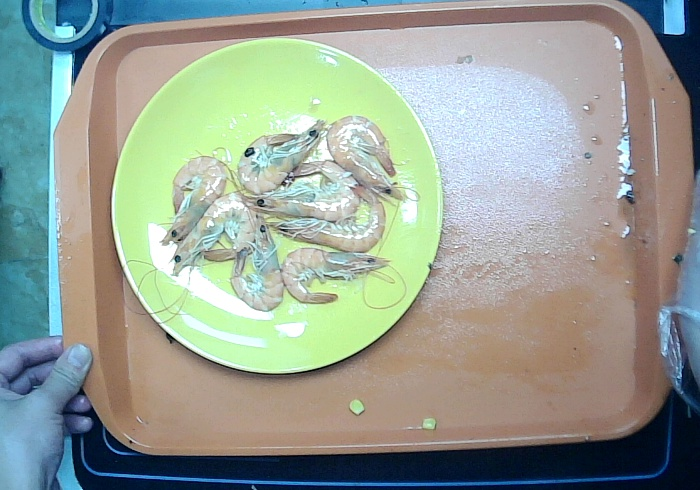HZYJPL-Huang_Se_Yuan_Pan: (108, 36, 446, 377)
